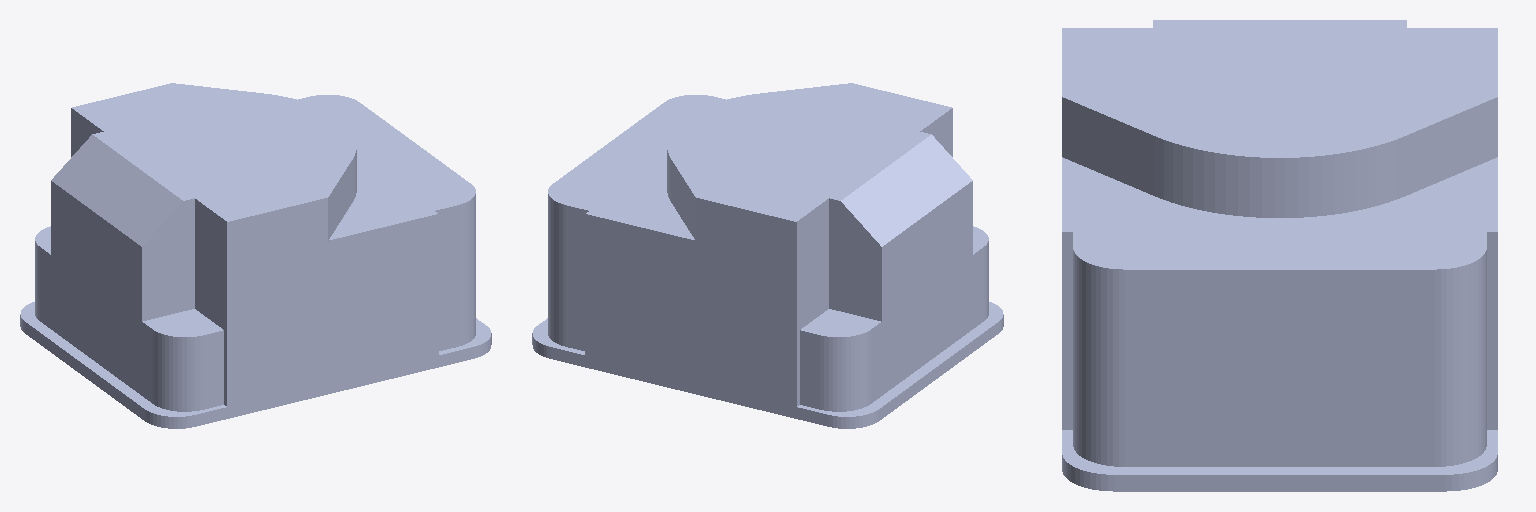
The robot description file, URDF, robot "agv_robot":
<?xml version="1.0" ?>
<!--html-->
<robot name="agv_robot">

  <link name="laser">
    <visual>
      <origin xyz="0.0 0.0 0" rpy="0 0 0" />
      <geometry>
        <!-- <cylinder length="0.05" radius="0.03" /> -->
        <mesh filename="package://sick_tim/meshes/sick_tim551.stl"/>
      </geometry>
      <material name="orange" />
    </visual>
  </link>

  <link name="base_link">
    <visual>
      <origin xyz="-0.35 0 -0.05" rpy="0 0 -1.5708" />
      <geometry>
        <mesh filename="package://robot_basic/AMR/AMR_CAD_v1.stl" scale="0.001 0.001 0.001"/>
      </geometry>
      <material name="">
          <color rgba="0.79216 0.81961 0.93333 1" />
      </material>
    </visual>
  </link>

  <joint name="base_link_to_laser_joint" type="fixed">
    <parent link="base_link" />
    <child link="laser" />
    <origin xyz="0.35 0.0 0.0" />
  </joint>

  <material name="gray">
      <color rgba="0.5 0.5 0.5 1.0" />
  </material>
  <material name="white">
      <color rgba="0.95 0.95 0.95 1.0" />
  </material>
  <material name="red">
      <color rgba="0.95 0.0 0.0 1.0" />
  </material>
  <material name="orange">
      <color rgba="1.0 0.5 0.0 1.0" />
  </material>
  <material name="yellow">
      <color rgba="1.0 1.0 0.0 1.0" />
  </material>
  <material name="green">
      <color rgba="0.0 1.0 0.0 1.0" />
  </material>
  <material name="blue">
      <color rgba="0.0 0.0 1.0 1.0" />
  </material>
  <material name="indigo">
      <color rgba="0.3 0.3 0.6 1.0" />
  </material>
  <material name="violet">
      <color rgba="0.6 0.0 1.0 1.0" />
  </material>
  <material name="black">
      <color rgba="0.0 0.0 0.0 1.0" />
  </material>

</robot>

--- Render facts (derived) ---
3 views of the same robot in one strip: view 1: azimuth 30°, elevation 25°; view 2: azimuth 150°, elevation 25°; view 3: azimuth 270°, elevation 25° (orthographic).
Model agv_robot with 2 links and 1 joints (1 fixed), rooted at base_link, posed all joints at 0.
Links seen in each view (by area): view 1: base_link; view 2: base_link; view 3: base_link.
Boxes of the visible links, x1,y1,x2,y2 form: base_link: [20, 83, 491, 428]; base_link: [532, 83, 1003, 428]; base_link: [1062, 20, 1497, 491].
Size in the robot's own frame: 0.745 by 0.59 by 0.41 metres.
Meshes: 2 distinct files referenced, 1 mesh visuals loaded (1 binary STL); not drawn: 1 (reference not matched to a file when rendering).
